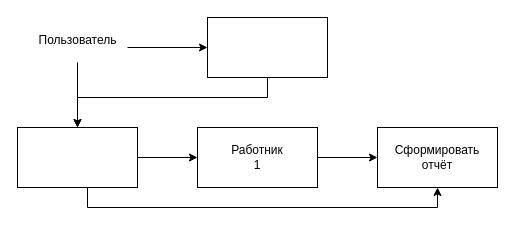
This 515x233 diagram has some shape labels left out. Each missing label, with the box of its shape:
Поиск 1,2: (206, 16, 328, 78)
Список работников 3,4,6: (16, 126, 138, 188)
